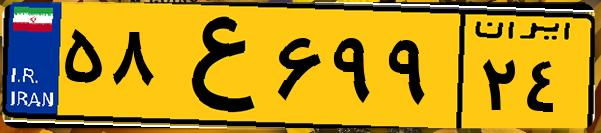2: (475, 38, 525, 113)
4: (525, 38, 570, 115)
5: (57, 26, 110, 100)
6: (270, 28, 330, 110)
8: (110, 28, 158, 98)
9: (385, 28, 445, 110), (330, 28, 385, 110)
ع: (158, 12, 270, 120)
